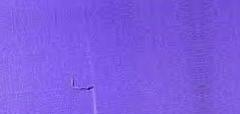snag: (68, 74, 98, 93)
